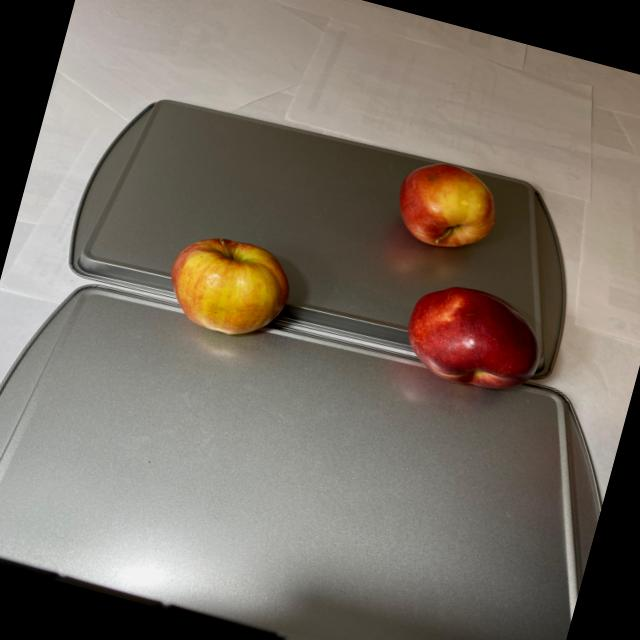apple: (349, 152, 586, 404), (153, 220, 300, 356)
